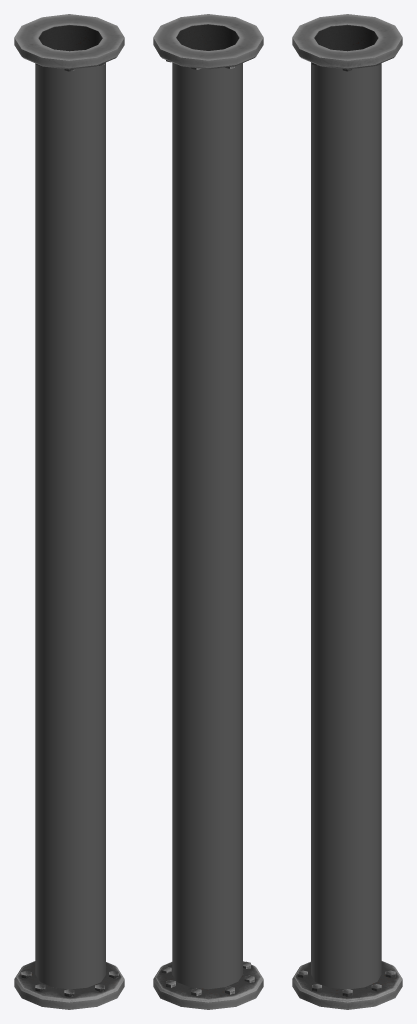
The model's file is straight long black.glb.
3 views of the same model, side by side, from view 1: azimuth 90°, elevation 25°; view 2: azimuth 210°, elevation 25°; view 3: azimuth 270°, elevation 25° (orthographic).
Parts seen in each view (by area): view 1: straight_0.001; view 2: straight_0.001; view 3: straight_0.001.
Boxes of the visible parts, x1=… form: straight_0.001: x1=14, y1=14, x2=124, y2=1009; straight_0.001: x1=153, y1=14, x2=263, y2=1009; straight_0.001: x1=292, y1=14, x2=402, y2=1009.
Size of the model in its own units: 0.2071 by 1.95 by 0.2063.
Materials: 3 (1 with a texture image).
